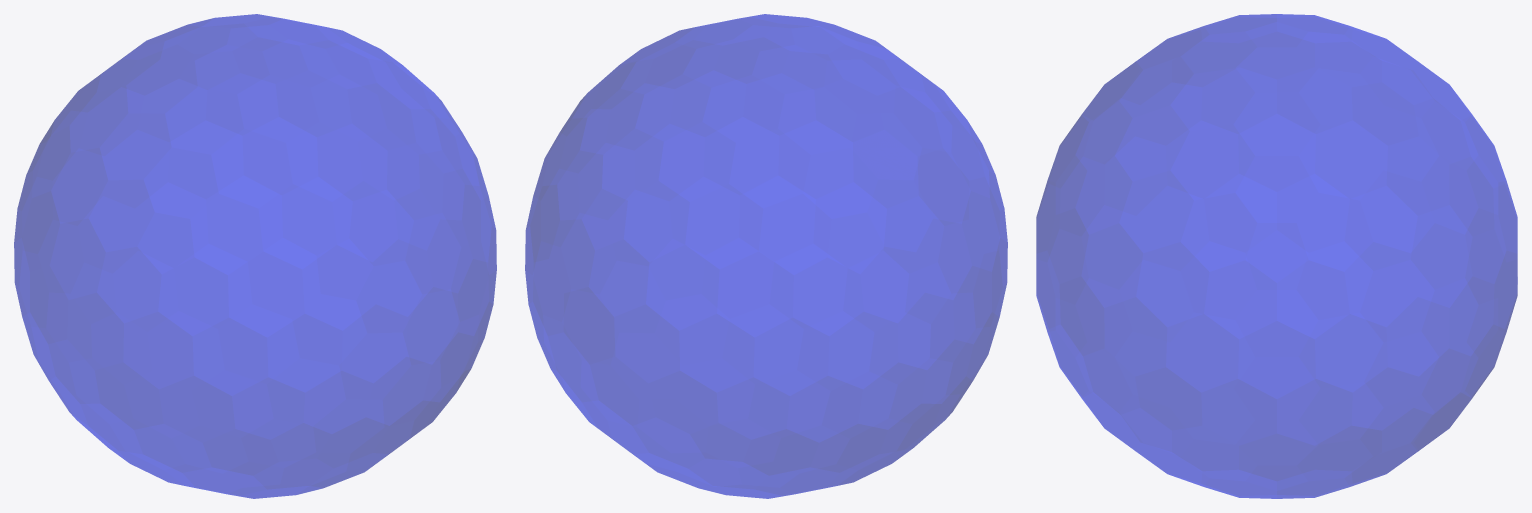
Rendered from shield_effect.FBX.
3 views of the same model, side by side, from view 1: azimuth 30°, elevation 25°; view 2: azimuth 150°, elevation 25°; view 3: azimuth 270°, elevation 25° (orthographic).
Visible parts, largest first — view 1: Icosphere; view 2: Icosphere; view 3: Icosphere.
Part boxes in pixels (x1,y1,x2,y2): Icosphere: (14, 14, 496, 498); Icosphere: (525, 14, 1007, 498); Icosphere: (1036, 14, 1517, 498).
Bounding box in the file's own units: 76.22 × 76.84 × 76.01.
